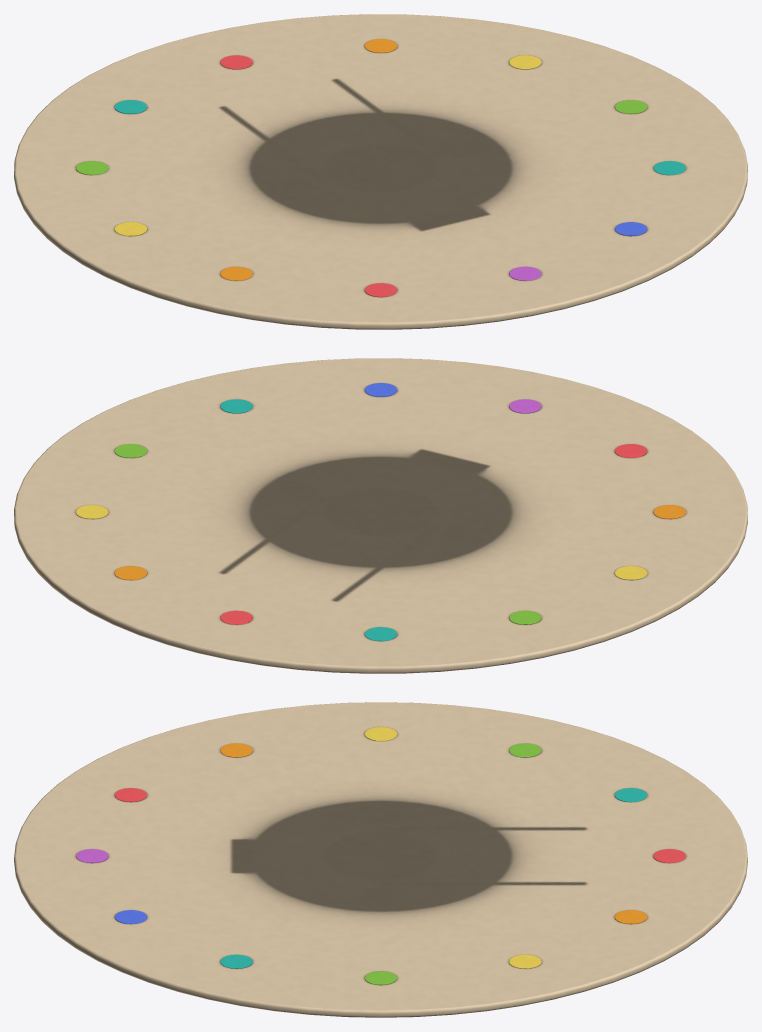
File: Plaza.fbx
3 renders of one model, top to bottom at view 1: azimuth 30°, elevation 25°; view 2: azimuth 150°, elevation 25°; view 3: azimuth 270°, elevation 25°, orthographic.
Parts seen in each view (by area): view 1: Plaza_Body; view 2: Plaza_Body; view 3: Plaza_Body.
Part boxes in pixels (x1,y1,x2,y2): Plaza_Body: [14, 14, 747, 329]; Plaza_Body: [14, 358, 747, 673]; Plaza_Body: [14, 702, 747, 1017].
Size of the model in its own units: 14.24 by 0.17 by 14.24.
